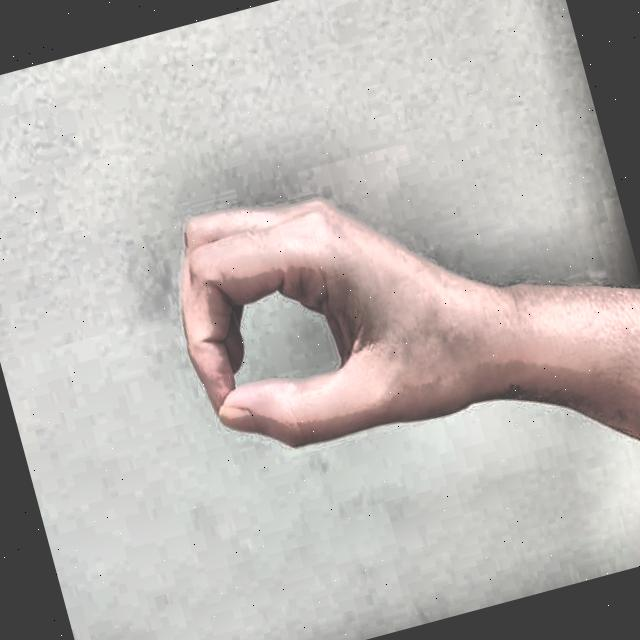O: (128, 128, 498, 502)
